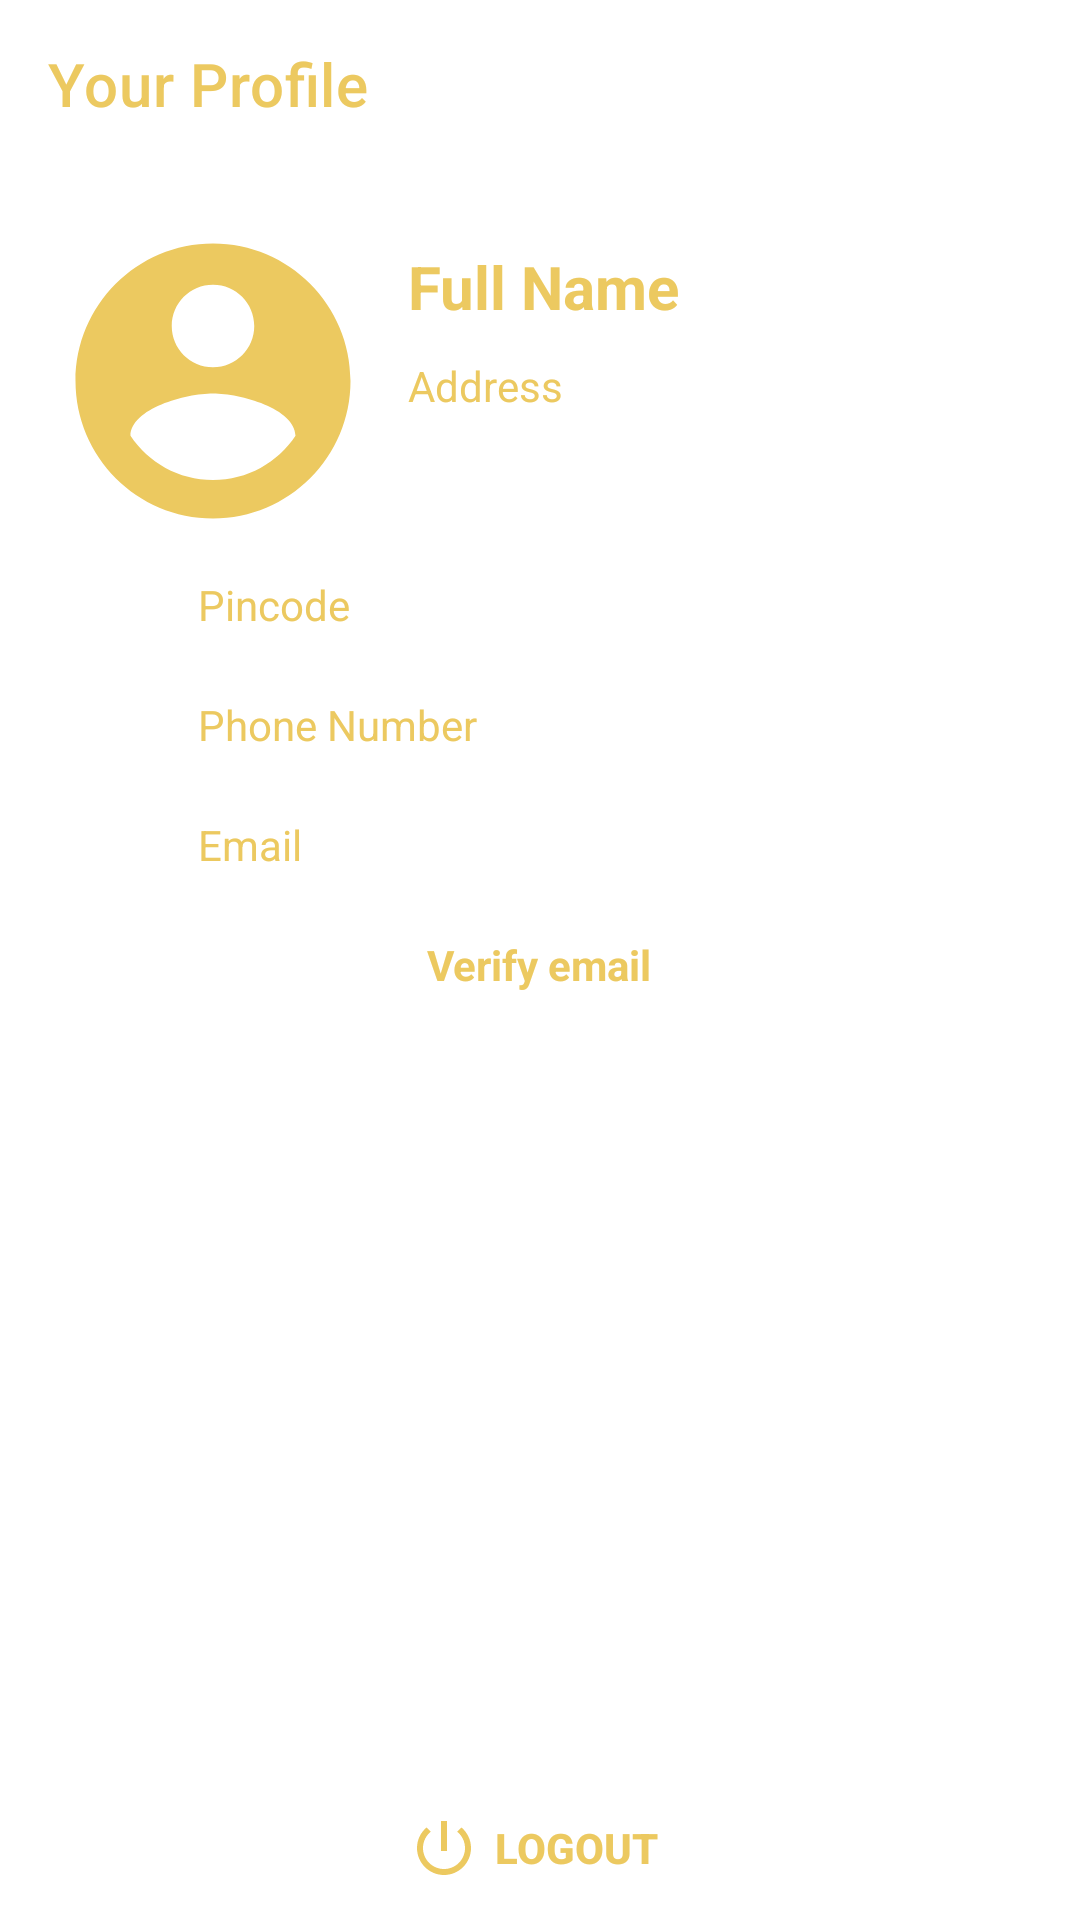

Icon click points for this 1080*1920 phone screenshot, format [x,y]:
account: [213,381]
